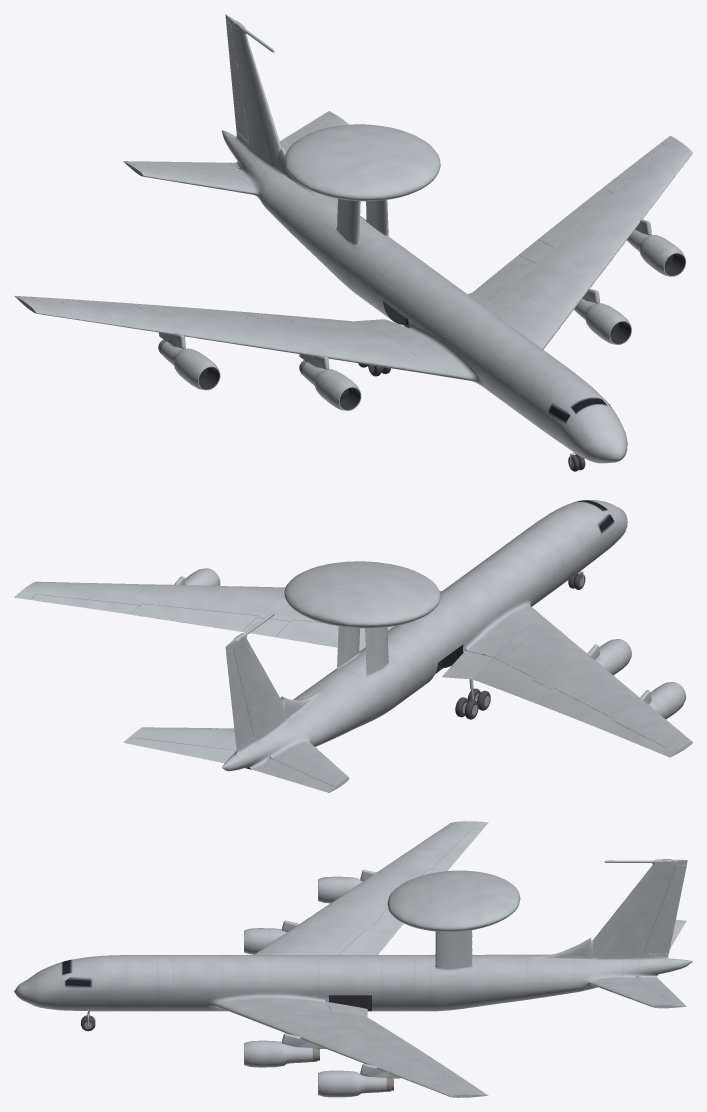
3 renders of one model, top to bottom at view 1: azimuth 30°, elevation 25°; view 2: azimuth 150°, elevation 25°; view 3: azimuth 270°, elevation 25°, orthographic. The views are drawn at different scales.
Visible parts, largest first — view 1: airframe, fsim:flaps (×4), fsim:rudder; view 2: airframe, fsim:flaps (×4), fsim:aileron (×3), fsim:elevator (×2), fsim:rudder; view 3: airframe, fsim:flaps (×3), fsim:rudder, fsim:aileron, fsim:elevator.
Boxes of the visible parts, <box> form: airframe: <box>14,14,692,463</box>; fsim:flaps (×4): <box>130,188,613,329</box>; fsim:rudder: <box>226,20,248,141</box>; airframe: <box>14,500,692,792</box>; fsim:flaps (×4): <box>130,604,613,729</box>; fsim:aileron (×3): <box>31,594,666,753</box>; fsim:elevator (×2): <box>127,737,332,791</box>; fsim:rudder: <box>226,648,253,747</box>; airframe: <box>14,821,692,1097</box>; fsim:flaps (×3): <box>325,929,446,1067</box>; fsim:rudder: <box>643,865,686,953</box>; fsim:aileron: <box>431,828,482,870</box>; fsim:elevator: <box>636,977,685,1005</box>.
Bounding box in the file's own units: 44.44 × 12.89 × 46.61.
6 materials, 1 textured.
